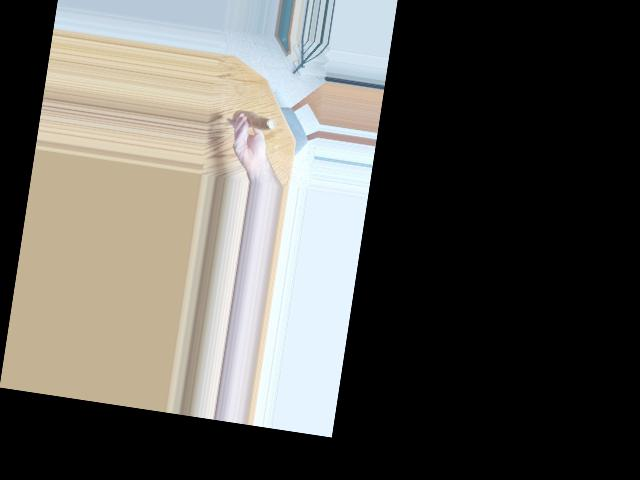sweet_potato: (236, 107, 275, 136)
